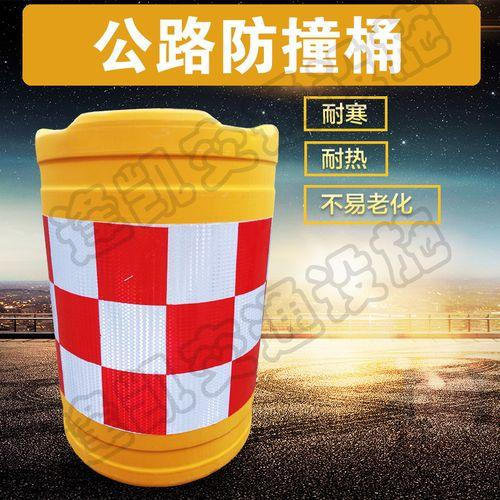sign: (22, 97, 282, 487)
